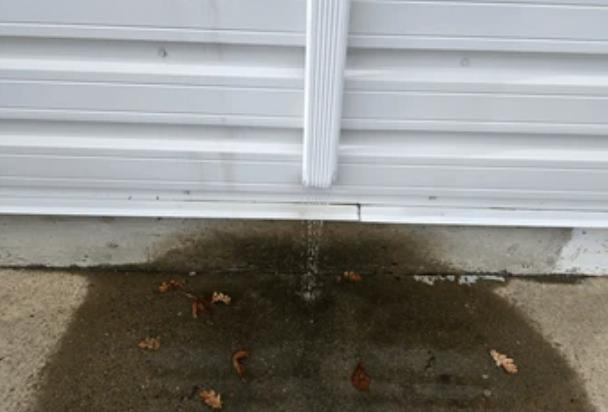water accumulation: (46, 270, 601, 412)
